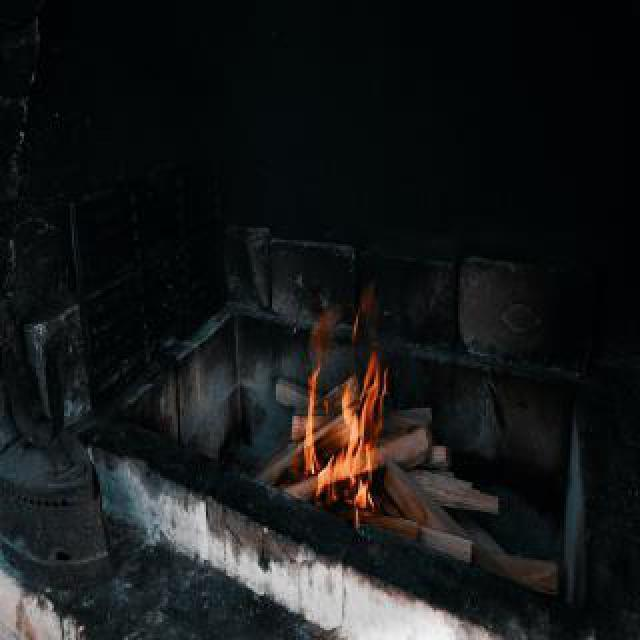Fire: (292, 282, 388, 518)
